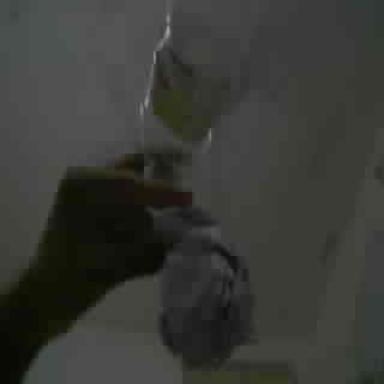bottle: (137, 2, 266, 187)
paper: (156, 208, 253, 368)
